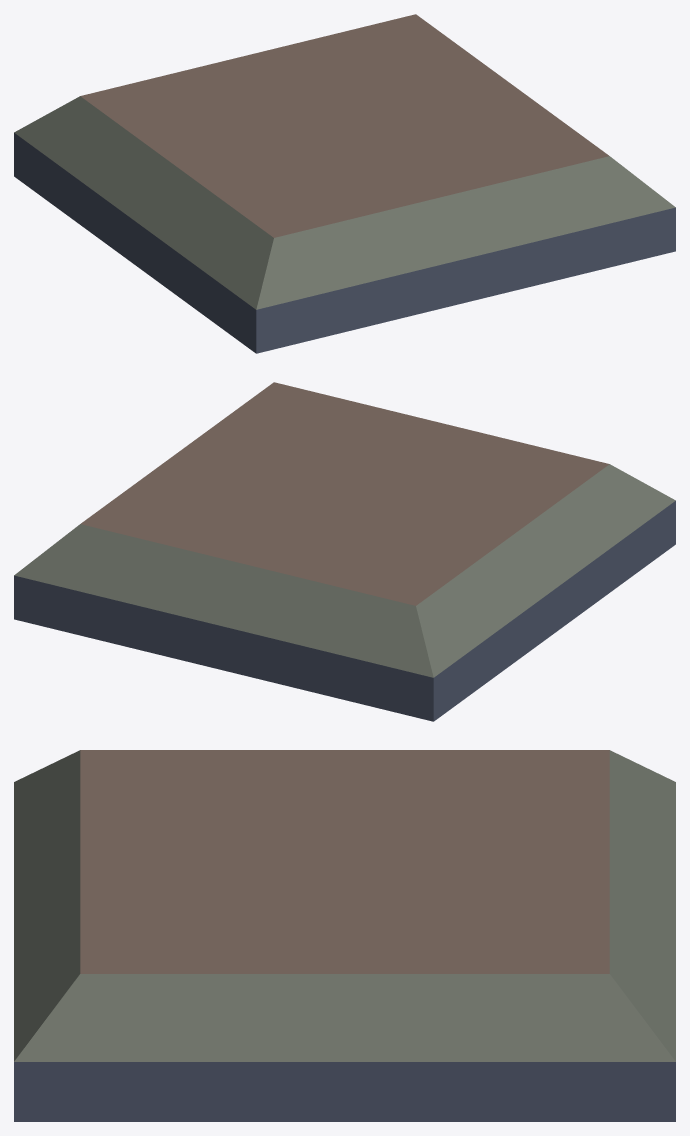
File: Floor_bump.fbx
3 renders of one model, top to bottom at view 1: azimuth 30°, elevation 25°; view 2: azimuth 150°, elevation 25°; view 3: azimuth 270°, elevation 25°, orthographic. The views are drawn at different scales.
Visible parts, largest first — view 1: Cube; view 2: Cube; view 3: Cube.
Part boxes in pixels (x1,y1,x2,y2): Cube: (14, 14, 675, 353); Cube: (14, 382, 675, 721); Cube: (14, 750, 675, 1121).
Size of the model in its own units: 100 by 20 by 100.
